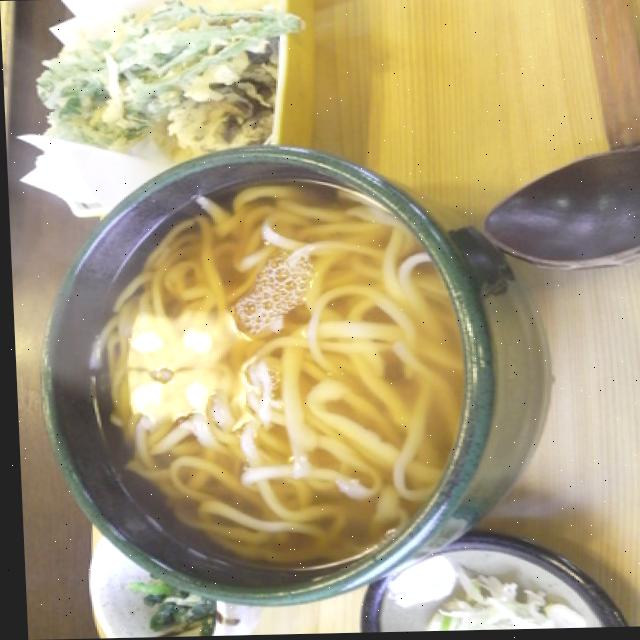面条主食: (52, 155, 504, 611)
